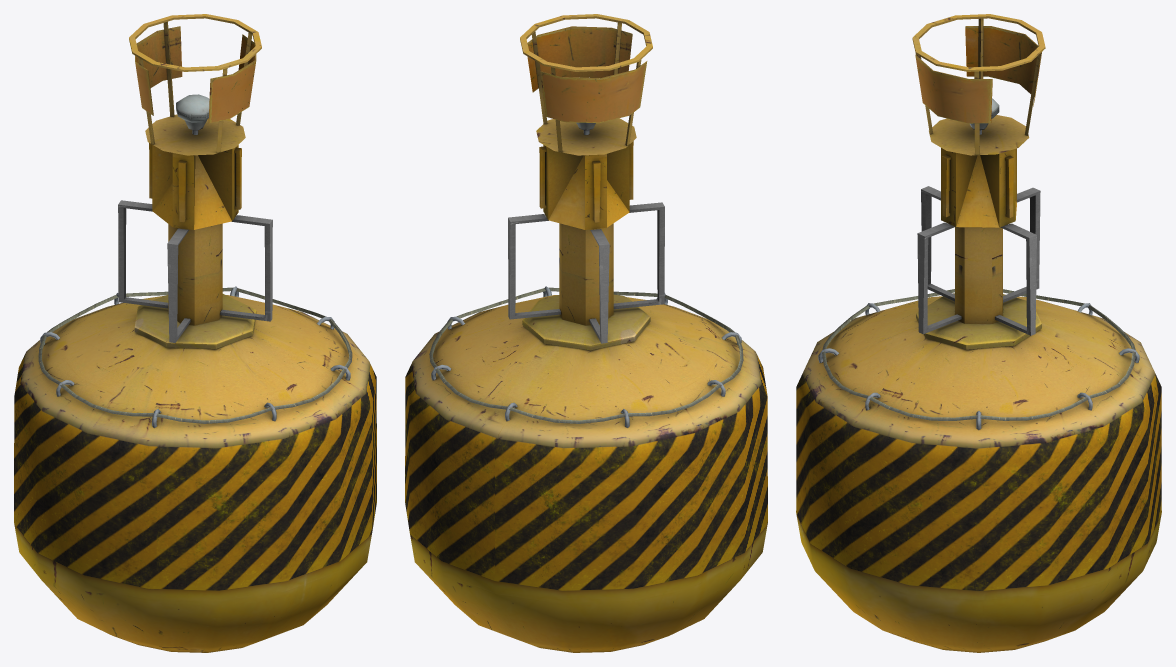
The model's file is OceanBuoy05.FBX.
3 views of the same model, side by side, from view 1: azimuth 30°, elevation 25°; view 2: azimuth 150°, elevation 25°; view 3: azimuth 270°, elevation 25° (orthographic).
Visible parts, largest first — view 1: OceanBuoy05; view 2: OceanBuoy05; view 3: OceanBuoy05.
Part boxes in pixels (x1=…): OceanBuoy05: x1=14, y1=14, x2=376, y2=652; OceanBuoy05: x1=405, y1=14, x2=767, y2=652; OceanBuoy05: x1=796, y1=14, x2=1161, y2=652.
Size of the model in its own units: 71.97 by 71.97 by 128.
1 material, 1 textured.
